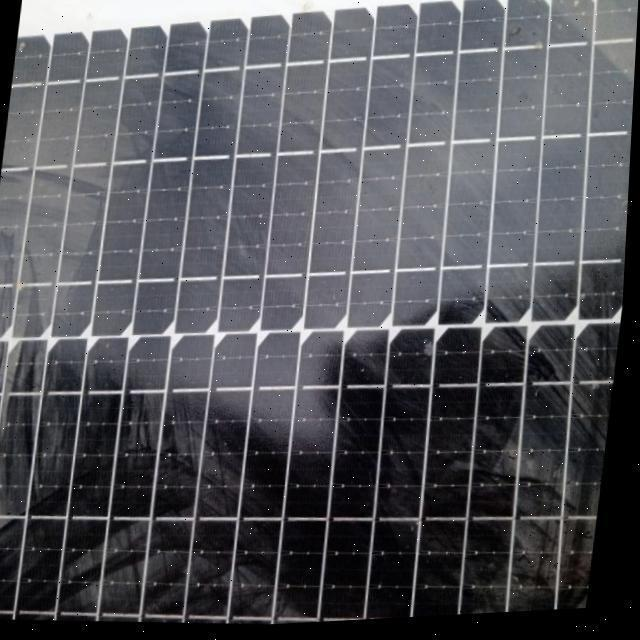Surface Contaminant: (0, 2, 638, 627)
